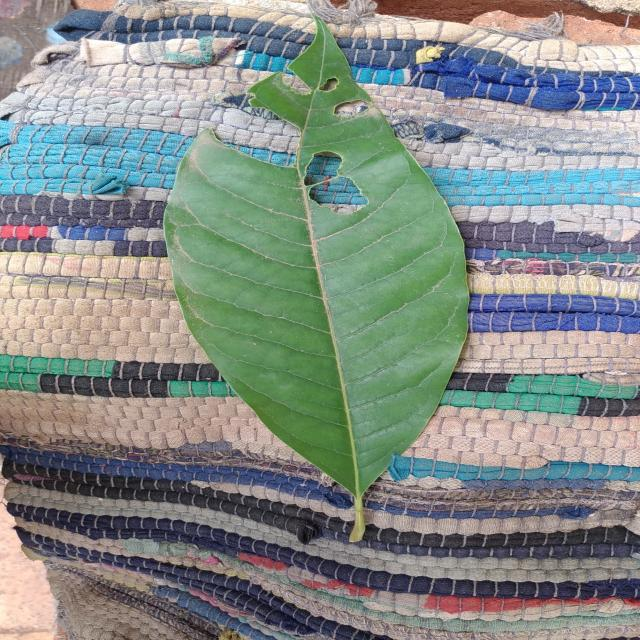coffee: (164, 20, 469, 540)
